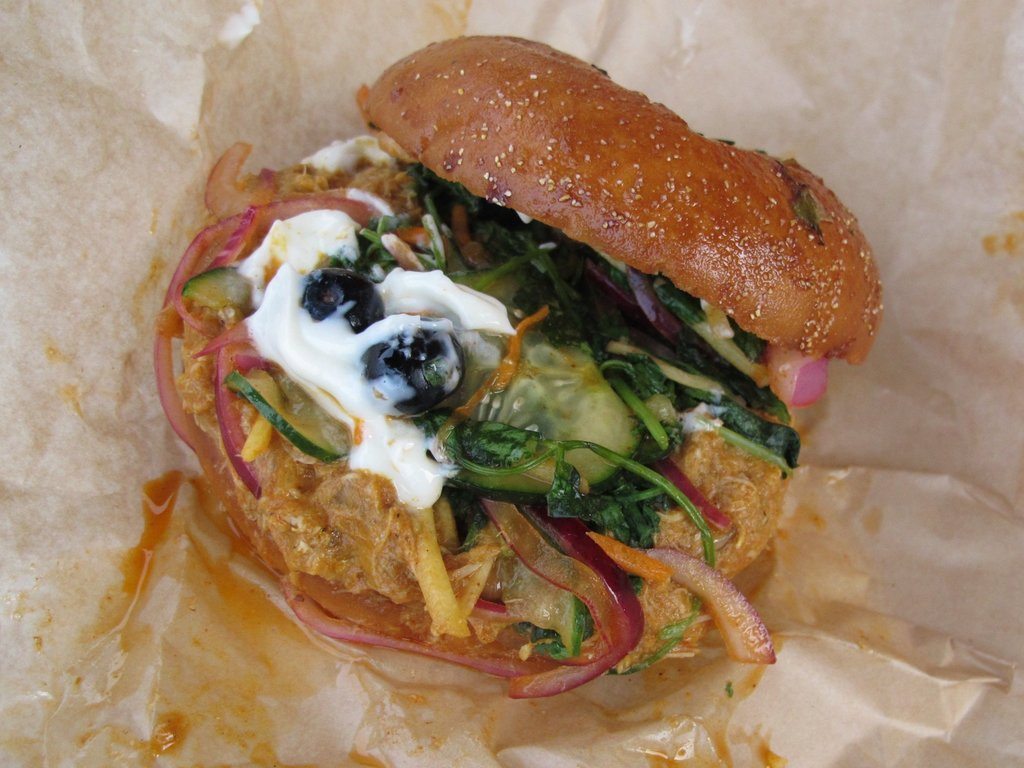Hamburger: (154, 33, 884, 700)
